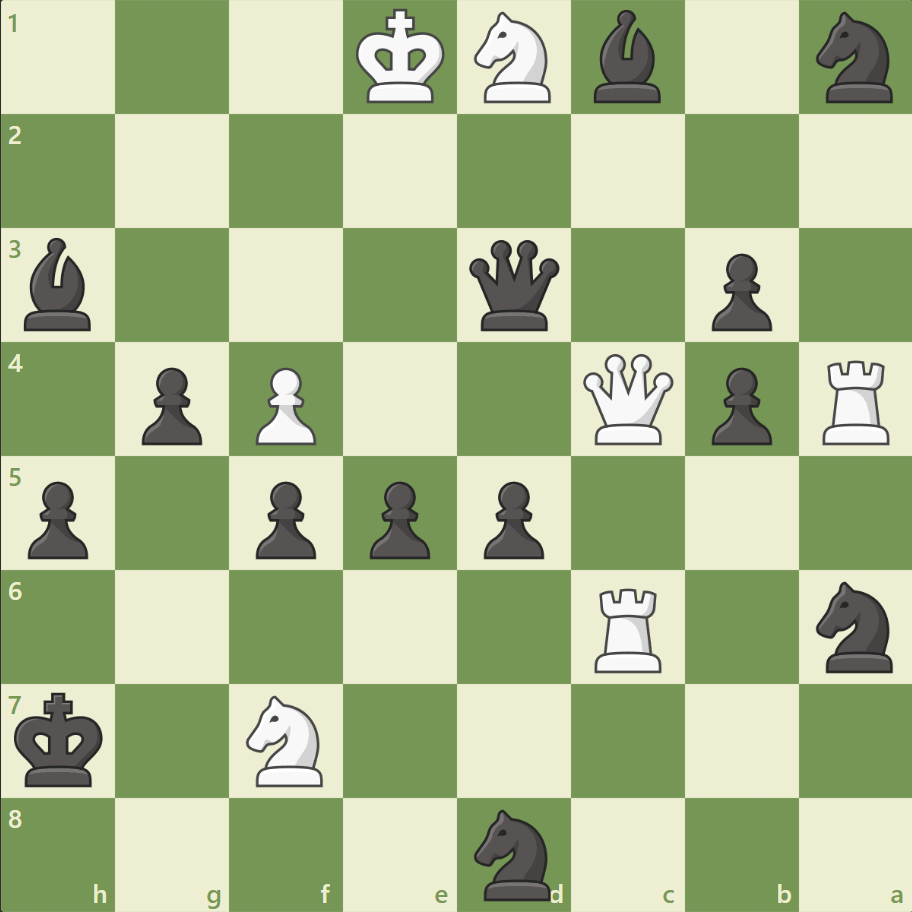K: (351, 4, 451, 112)
N: (238, 688, 335, 791), (465, 7, 562, 110)
P: (247, 359, 322, 450)
Q: (578, 349, 677, 449)
R: (587, 579, 670, 676), (814, 352, 897, 449)
b: (17, 233, 101, 336), (585, 6, 669, 109)
k: (11, 685, 111, 793)
n: (806, 7, 903, 110), (465, 802, 562, 904), (806, 575, 903, 677)
p: (474, 473, 549, 564), (247, 473, 322, 564), (20, 473, 95, 564), (701, 359, 776, 450), (133, 359, 208, 450), (701, 246, 776, 337), (361, 473, 435, 564)
q: (464, 236, 563, 335)
